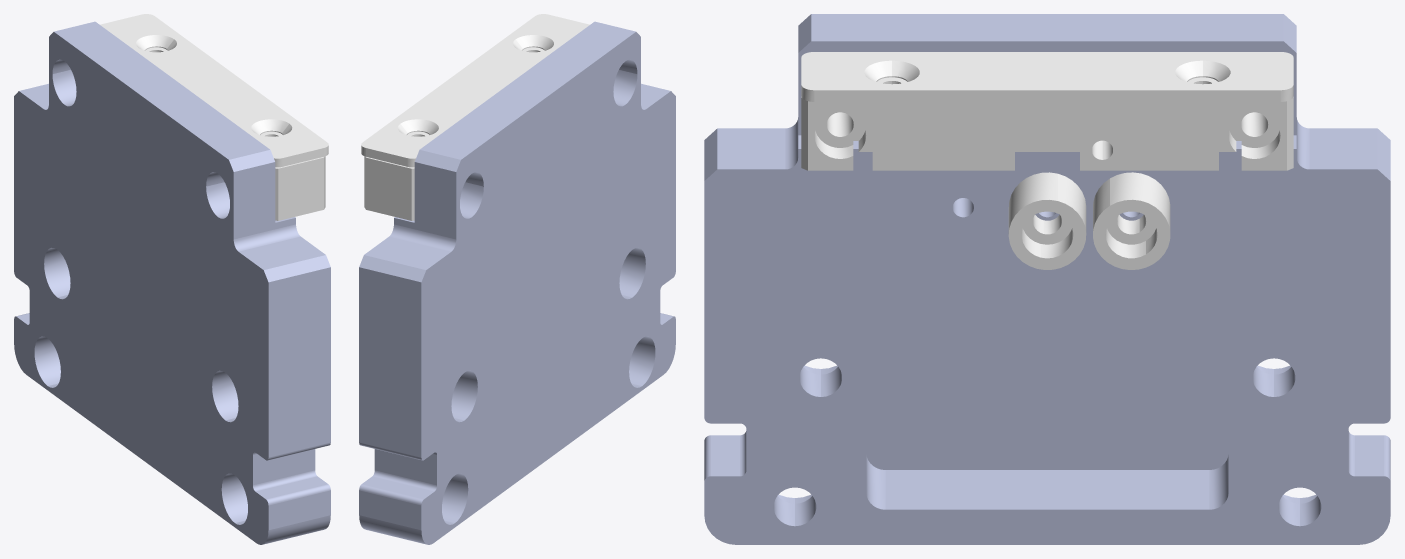
Rendered from 106-duangaiban.glb.
The picture shows the model from 3 angles, left to right: view 1: azimuth 30°, elevation 25°; view 2: azimuth 150°, elevation 25°; view 3: azimuth 270°, elevation 25°; orthographic projection. The views are drawn at different scales.
Parts seen in each view (by area): view 1: 106X-17-1 _X2_540e76d6_X0__node, 100T-37 _X2_94a25e26538b677f_X0__node, 100T-25 _X2_94a25e2694dd5757_X0__node; view 2: 106X-17-1 _X2_540e76d6_X0__node, 100T-37 _X2_94a25e26538b677f_X0__node, 100T-25 _X2_94a25e2694dd5757_X0__node; view 3: 106X-17-1 _X2_540e76d6_X0__node, 100T-25 _X2_94a25e2694dd5757_X0__node, 100T-37 _X2_94a25e26538b677f_X0__node, 80B-65-10 _X2_7f1351b280f6_X0__node_1, 80B-65-10 _X2_7f1351b280f6_X0__node.
Boxes of the visible parts, x1,y1,x2,y2 form: 106X-17-1 _X2_540e76d6_X0__node: (14,21,330,544); 100T-37 _X2_94a25e26538b677f_X0__node: (100,14,328,167); 100T-25 _X2_94a25e2694dd5757_X0__node: (145,47,325,220); 106X-17-1 _X2_540e76d6_X0__node: (359,21,675,544); 100T-37 _X2_94a25e26538b677f_X0__node: (361,14,589,167); 100T-25 _X2_94a25e2694dd5757_X0__node: (364,47,544,220); 106X-17-1 _X2_540e76d6_X0__node: (704,14,1390,544); 100T-25 _X2_94a25e2694dd5757_X0__node: (801,77,1293,170); 100T-37 _X2_94a25e26538b677f_X0__node: (801,52,1293,101); 80B-65-10 _X2_7f1351b280f6_X0__node_1: (1008,172,1086,269); 80B-65-10 _X2_7f1351b280f6_X0__node: (1093,172,1170,269).
Size of the model in its own units: 25 by 83.5 by 106.
